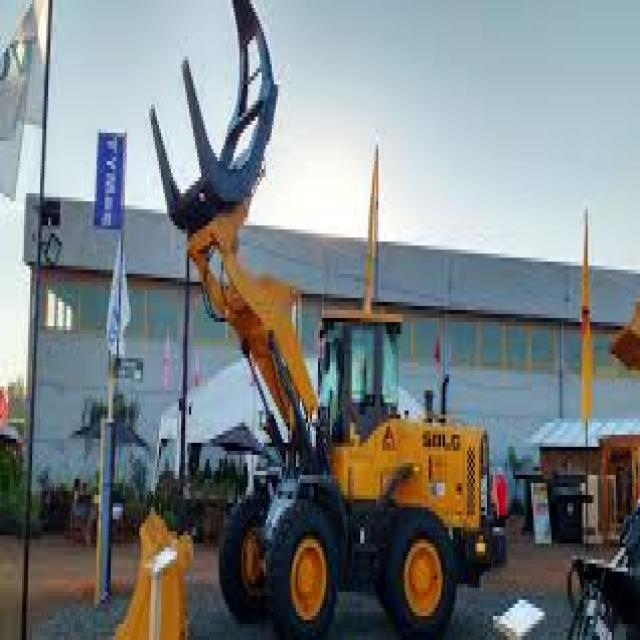buldozerpayloadergrader: (206, 294, 498, 631)
